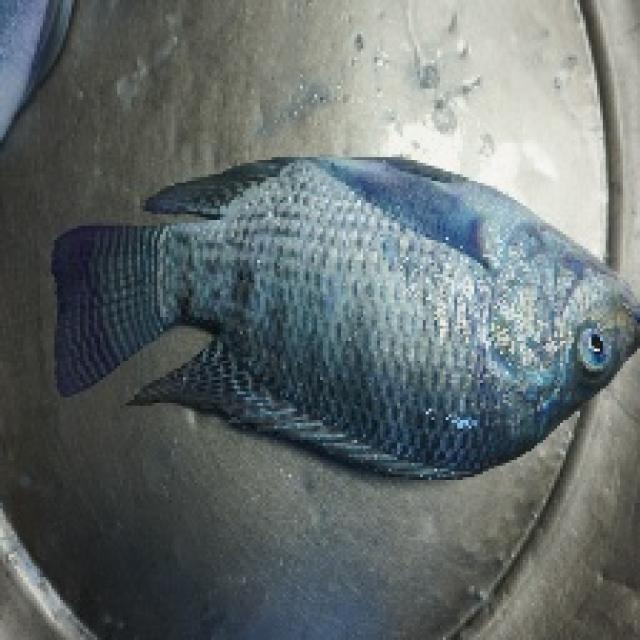Fresh: (210, 137, 640, 456), (567, 320, 620, 375)
